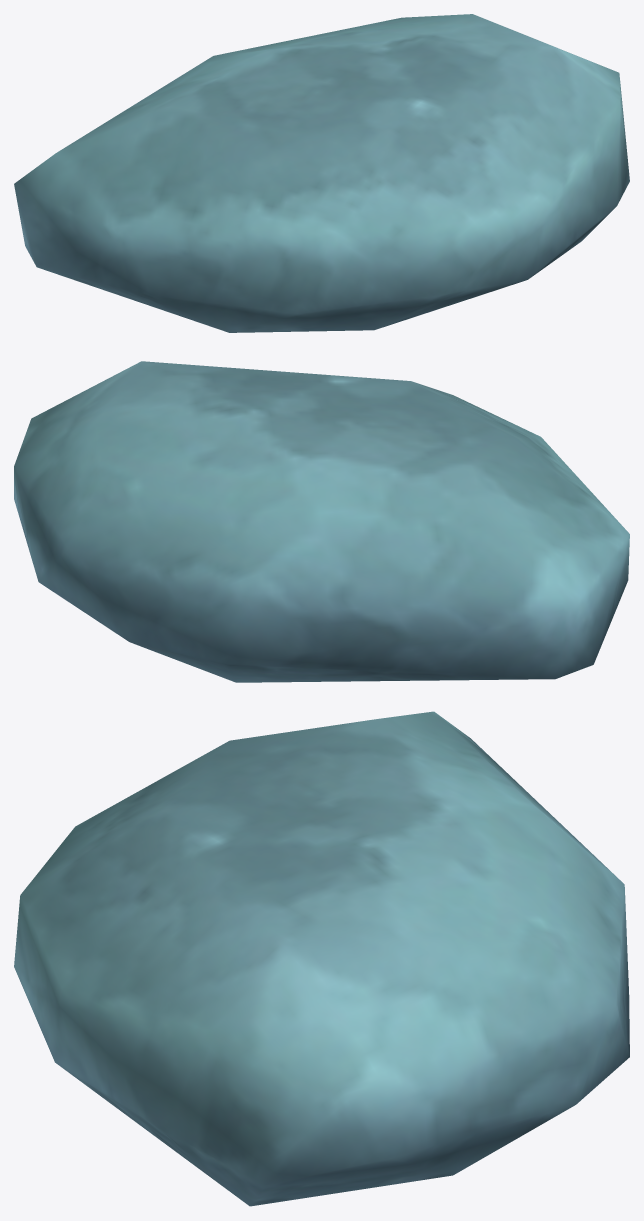
The model's file is obj_stone08.gltf.
The picture shows the model from 3 angles, top to bottom: view 1: azimuth 30°, elevation 25°; view 2: azimuth 150°, elevation 25°; view 3: azimuth 270°, elevation 25°; orthographic projection. The views are drawn at different scales.
Parts seen in each view (by area): view 1: obj_stone08; view 2: obj_stone08; view 3: obj_stone08.
Boxes of the visible parts, x1,y1,x2,y2 form: obj_stone08: (14,14,629,332); obj_stone08: (14,361,629,682); obj_stone08: (14,711,629,1206).
Size of what is drawn, in the model's own units: 1.62 by 0.6001 by 1.17.
Materials: 1 (1 with a texture image).
